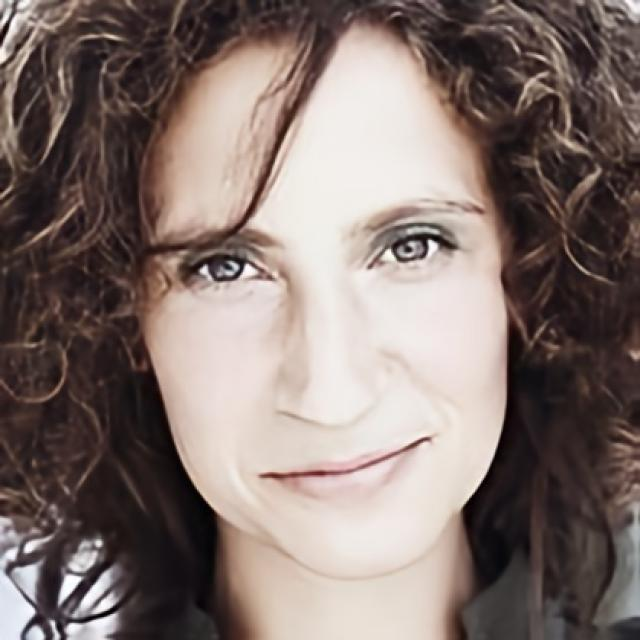content: (137, 23, 508, 580)
